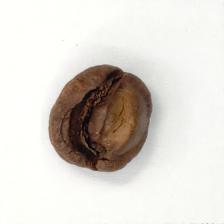NG: (58, 66, 138, 173)
